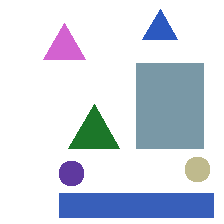circle: (185, 157, 209, 181), (59, 161, 83, 185)
rectangle: (136, 63, 203, 148), (59, 193, 213, 217)
triangle: (68, 104, 119, 148), (43, 23, 85, 59), (142, 9, 177, 39)
